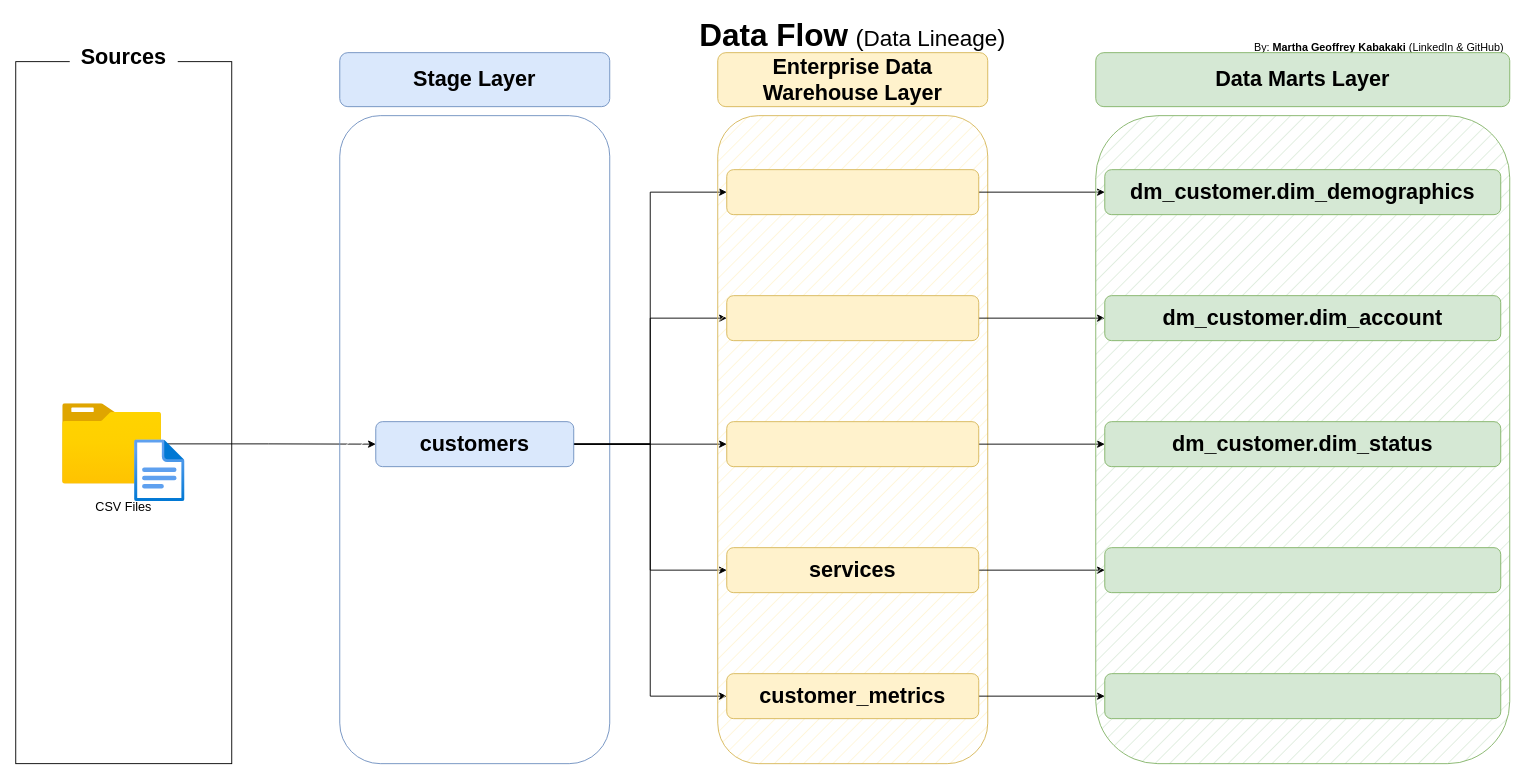
This 1526x779 diagram has some shape labels left out. Here are the shapes that lost their labels. From the top down, the centre of each, then its label:
[852,192]: demographics
[852,318]: account
[852,444]: status
[1302,570]: dm_customer.dim_services
[1302,696]: dm_customer.fact_customer_metrics
